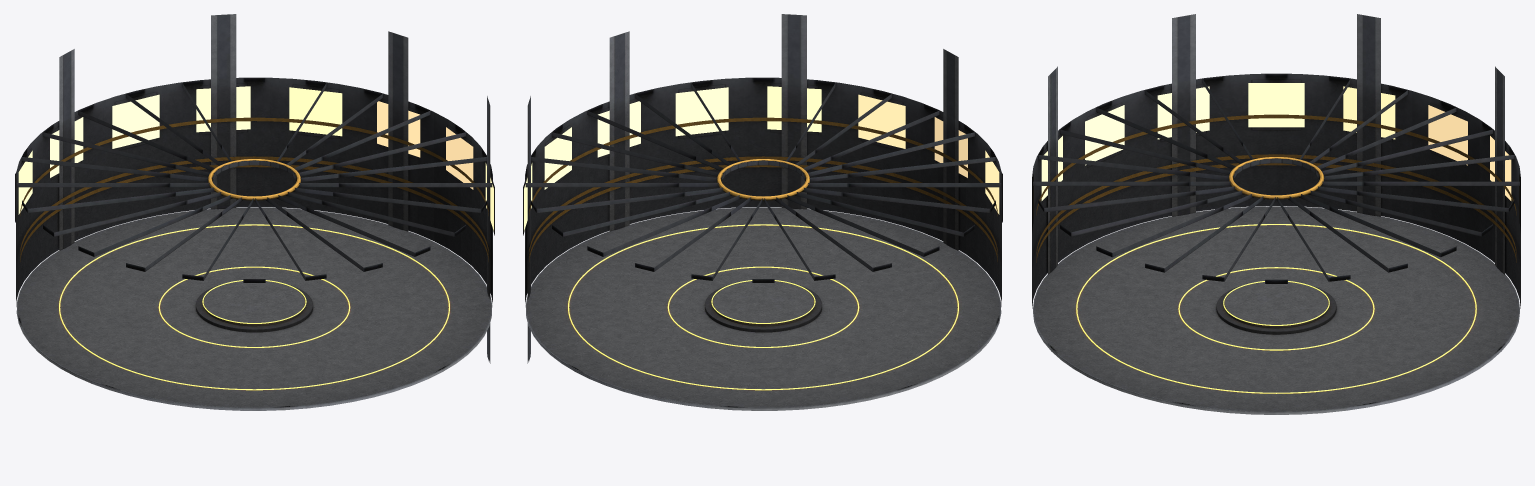
Rendered from hub-shell.glb.
The picture shows the model from 3 angles, left to right: view 1: azimuth 30°, elevation 25°; view 2: azimuth 150°, elevation 25°; view 3: azimuth 270°, elevation 25°; orthographic projection. The views are drawn at different scales.
Parts seen in each view (by area): view 1: Shell_Baked, Shell_Windows, Shell_Glow; view 2: Shell_Baked, Shell_Windows, Shell_Glow; view 3: Shell_Baked, Shell_Windows, Shell_Glow.
Part boxes in pixels (x1=…): Shell_Baked: x1=15, y1=14, x2=494, y2=410; Shell_Windows: x1=18, y1=86, x2=493, y2=230; Shell_Glow: x1=59, y1=224, x2=449, y2=390; Shell_Baked: x1=523, y1=14, x2=1002, y2=410; Shell_Windows: x1=524, y1=86, x2=999, y2=230; Shell_Glow: x1=568, y1=224, x2=958, y2=390; Shell_Baked: x1=1032, y1=14, x2=1520, y2=414; Shell_Windows: x1=1041, y1=83, x2=1511, y2=200; Shell_Glow: x1=1076, y1=224, x2=1476, y2=393.
Size of the model in its own units: 30.1 by 18 by 30.1.
3 materials, 1 textured.
